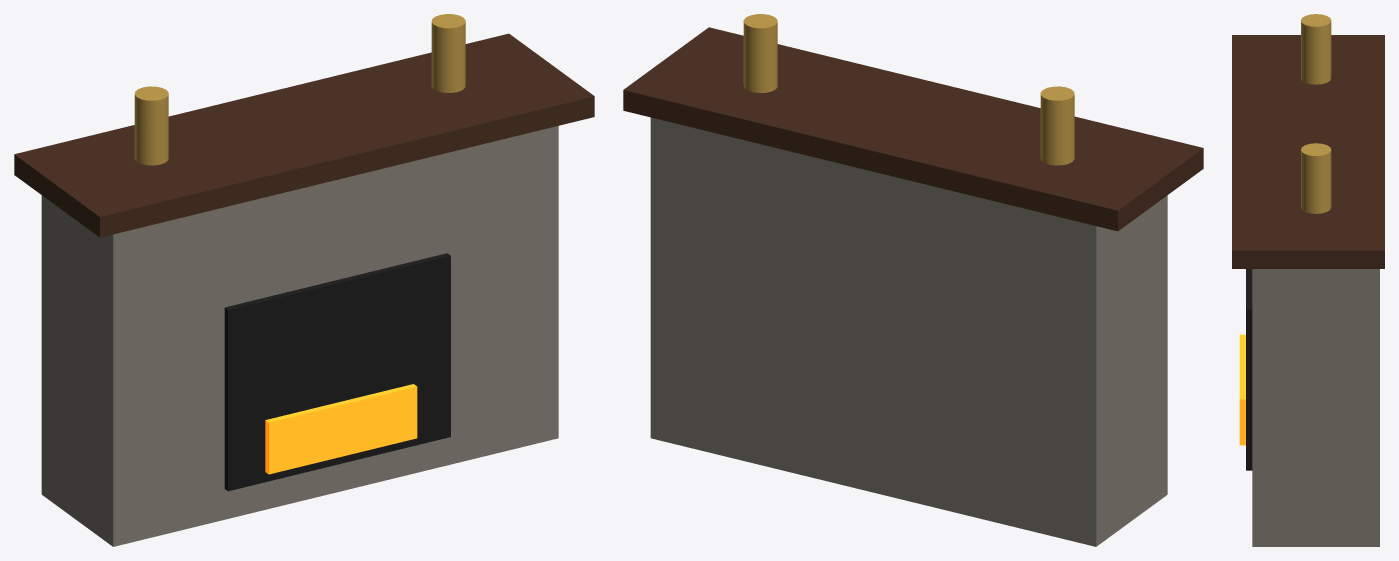
Rendered from fireplace.glb.
3 renders of one model, left to right at view 1: azimuth 30°, elevation 25°; view 2: azimuth 150°, elevation 25°; view 3: azimuth 270°, elevation 25°, orthographic. The views are drawn at different scales.
Parts seen in each view (by area): view 1: fireplace; view 2: fireplace; view 3: fireplace.
Part boxes in pixels (box(x1,y1,x2,y2)): fireplace: box(14, 14, 594, 546); fireplace: box(623, 14, 1203, 546); fireplace: box(1232, 14, 1384, 546).
Size of the model in its own units: 2 by 1.58 by 0.6.
